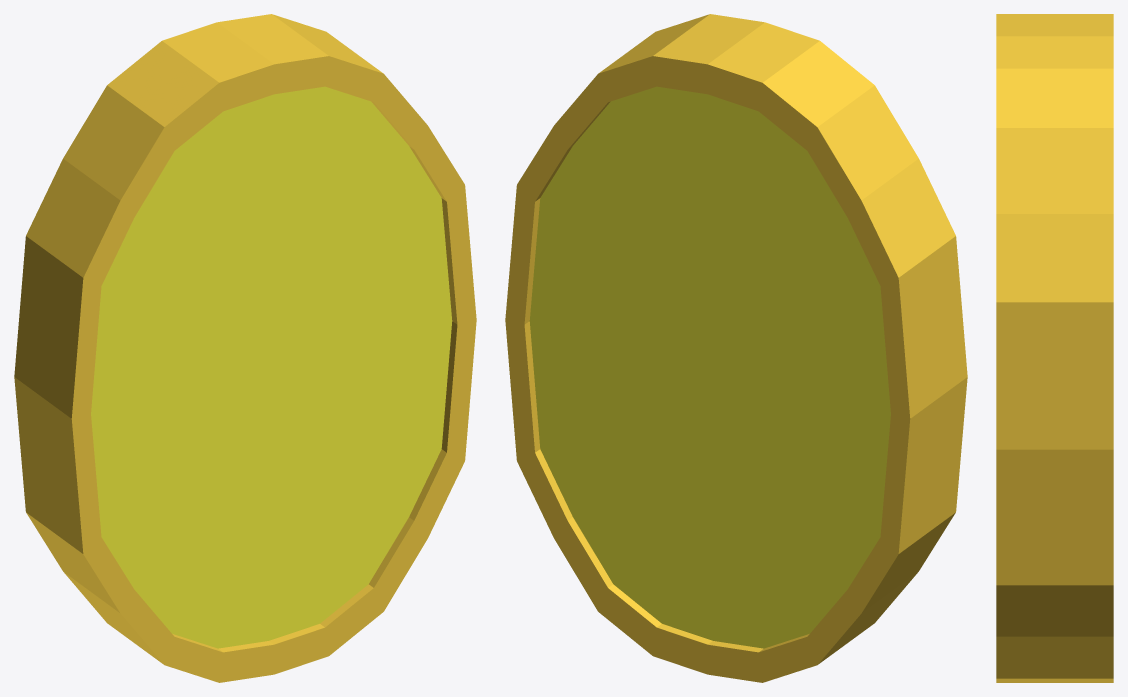
Rendered from coin.glb.
3 renders of one model, left to right at view 1: azimuth 30°, elevation 25°; view 2: azimuth 150°, elevation 25°; view 3: azimuth 270°, elevation 25°, orthographic. The views are drawn at different scales.
Visible parts, largest first — view 1: Cube; view 2: Cube; view 3: Cube.
Boxes of the visible parts, box(x1,y1,x2,y2) form: Cube: box(14, 14, 476, 682); Cube: box(505, 14, 967, 682); Cube: box(996, 14, 1113, 682).
Bounding box in the file's own units: 0.6202 × 0.8933 × 0.1524.
1 material, 1 textured.
